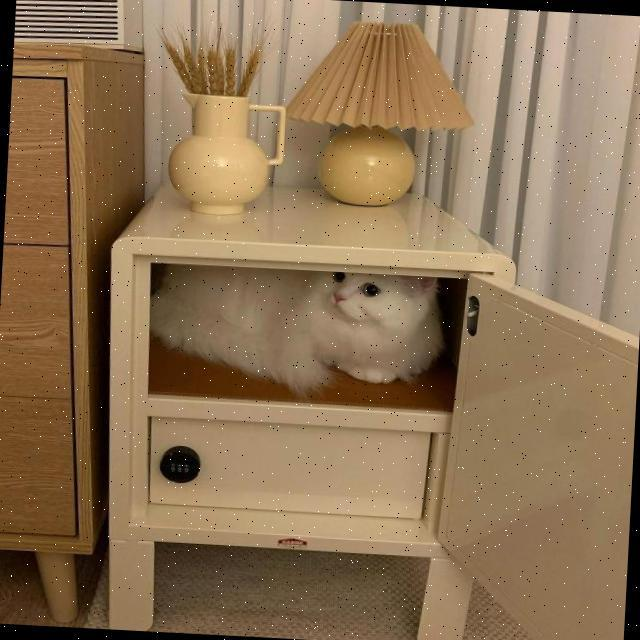Cats: (143, 257, 454, 413)
